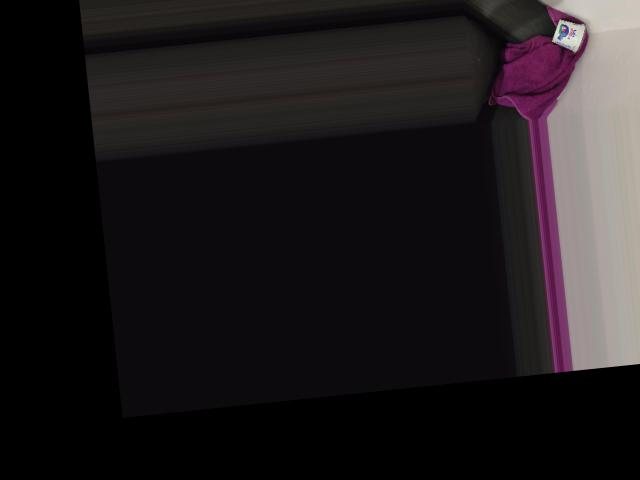cotage: (551, 18, 589, 53)
